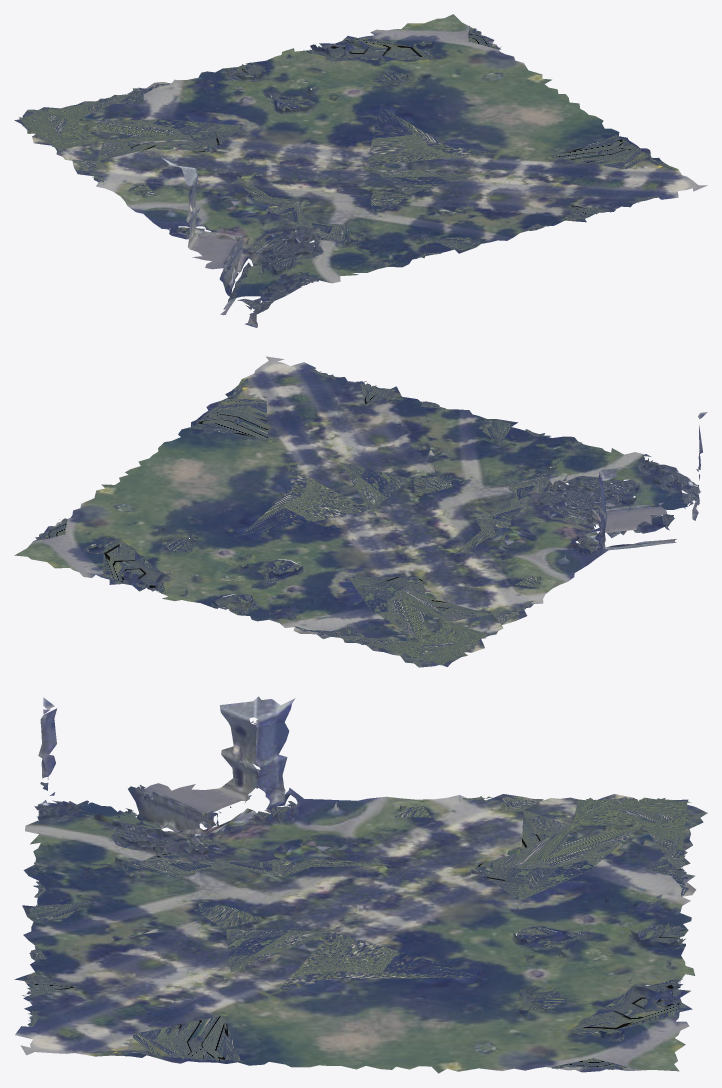
The picture shows the model from 3 angles, top to bottom: view 1: azimuth 30°, elevation 25°; view 2: azimuth 150°, elevation 25°; view 3: azimuth 270°, elevation 25°; orthographic projection. The views are drawn at different scales.
Bounding box in the file's own units: 106 × 24.68 × 108.
1 material, 1 textured.
